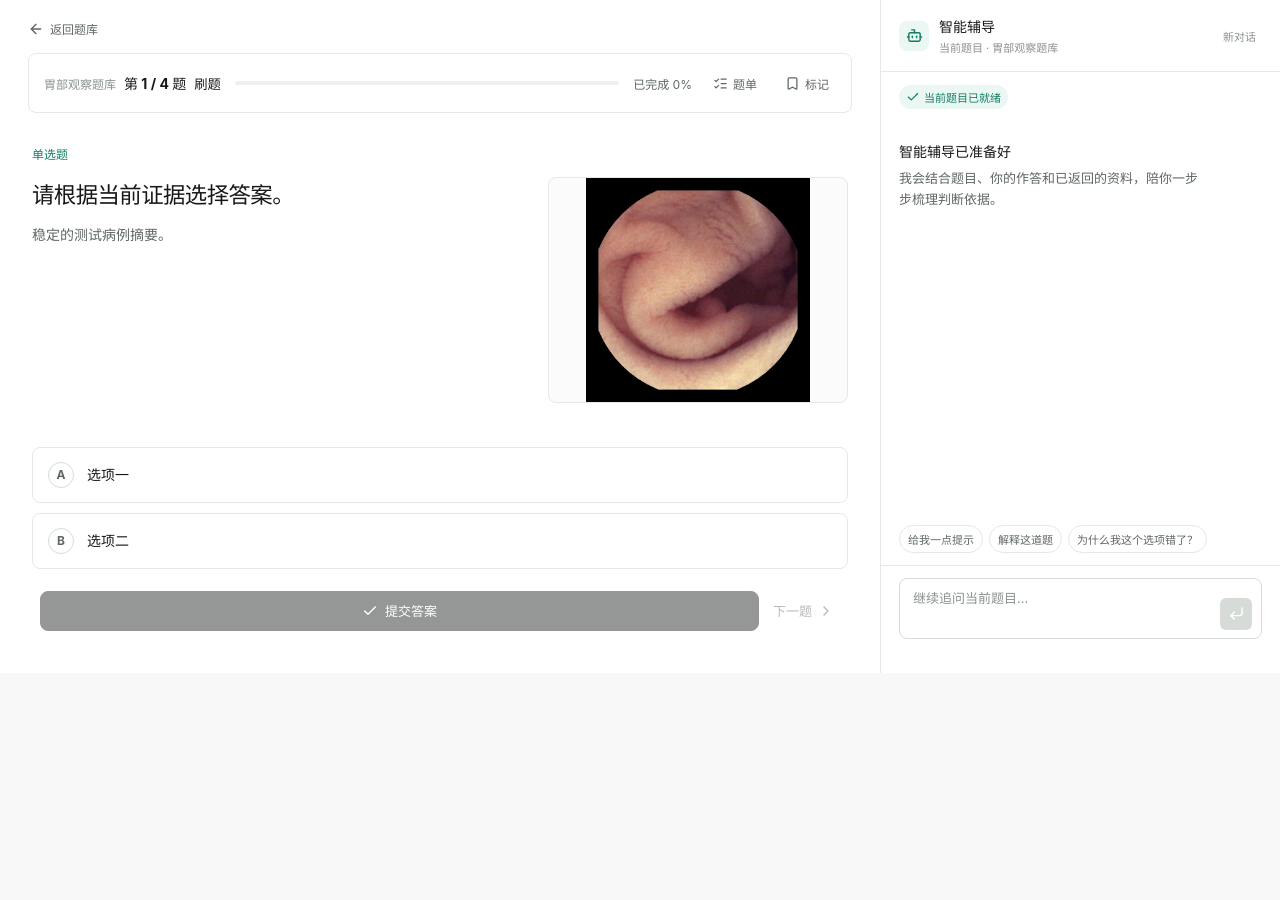
Stage 1 page contracts › renders a continuous Tutor chat with real tool and source parts
The image size is (1280, 900).
In the text box named "向智能辅导提问": (1062, 608) x1=911 y1=586 x2=1212 y2=630, type "请帮助我观察"
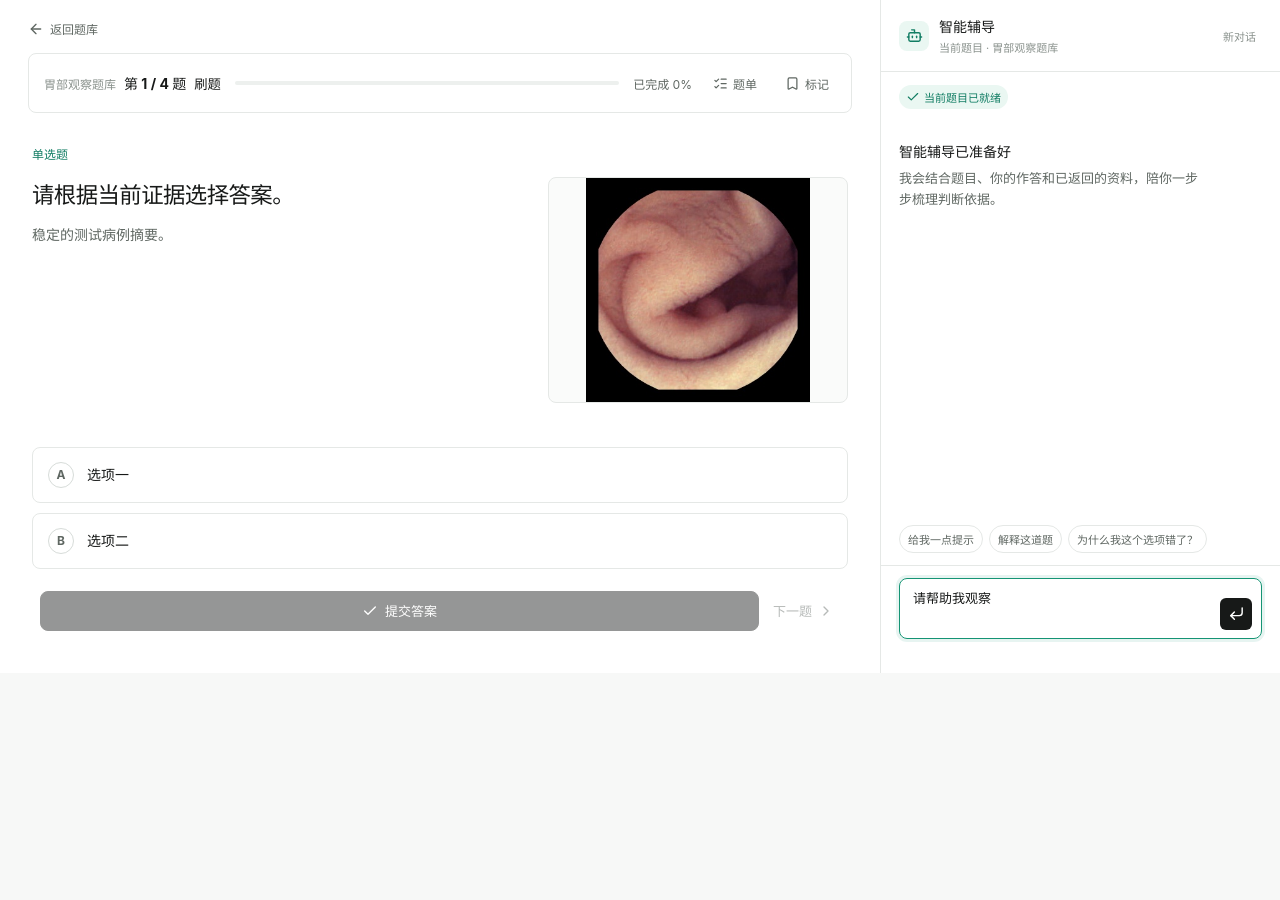
Click the button named "发送给智能辅导": (1236, 614) x1=1220 y1=598 x2=1252 y2=630
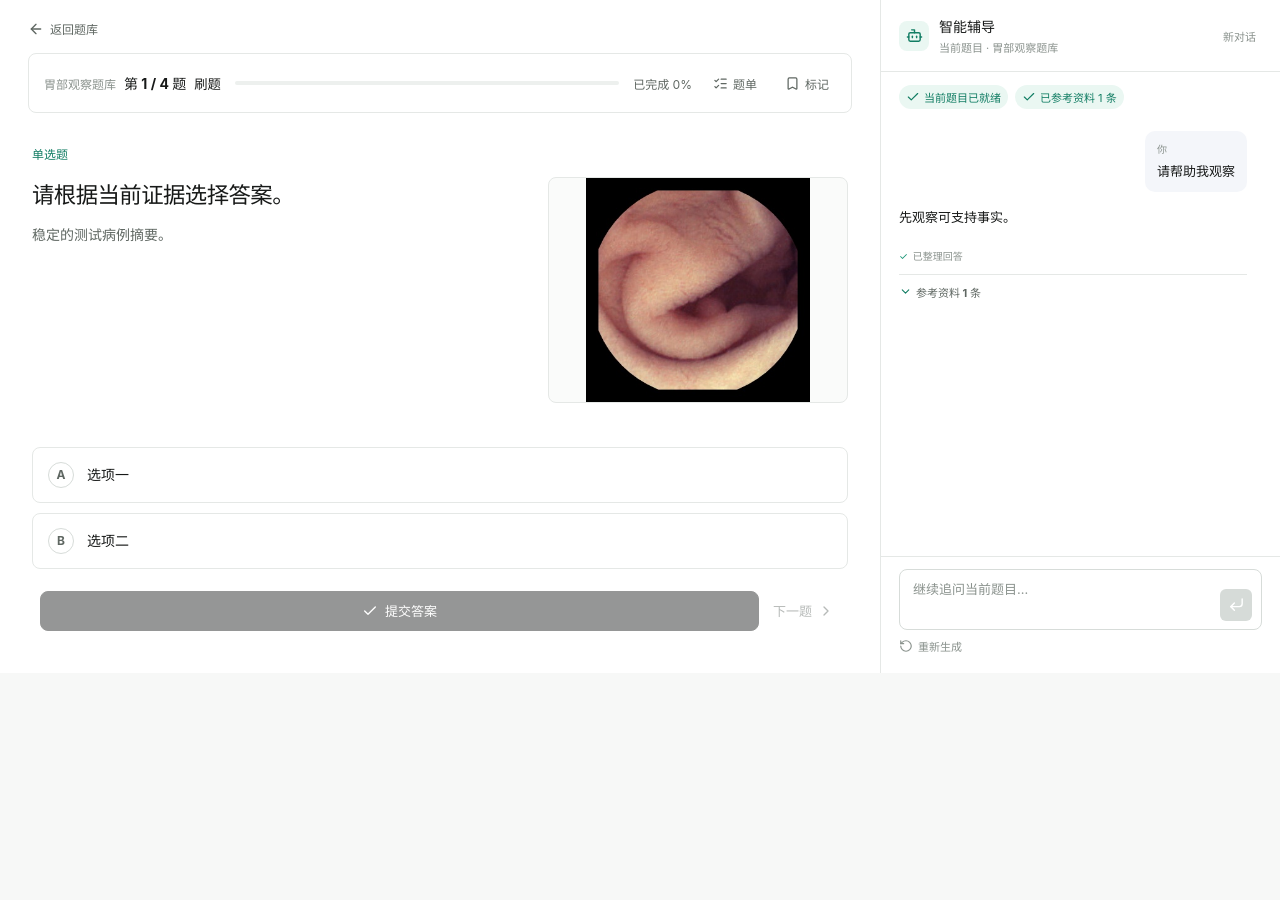
Now the text "先观察可支持事实。" is shown, box x1=899 y1=209 x2=1016 y2=225
